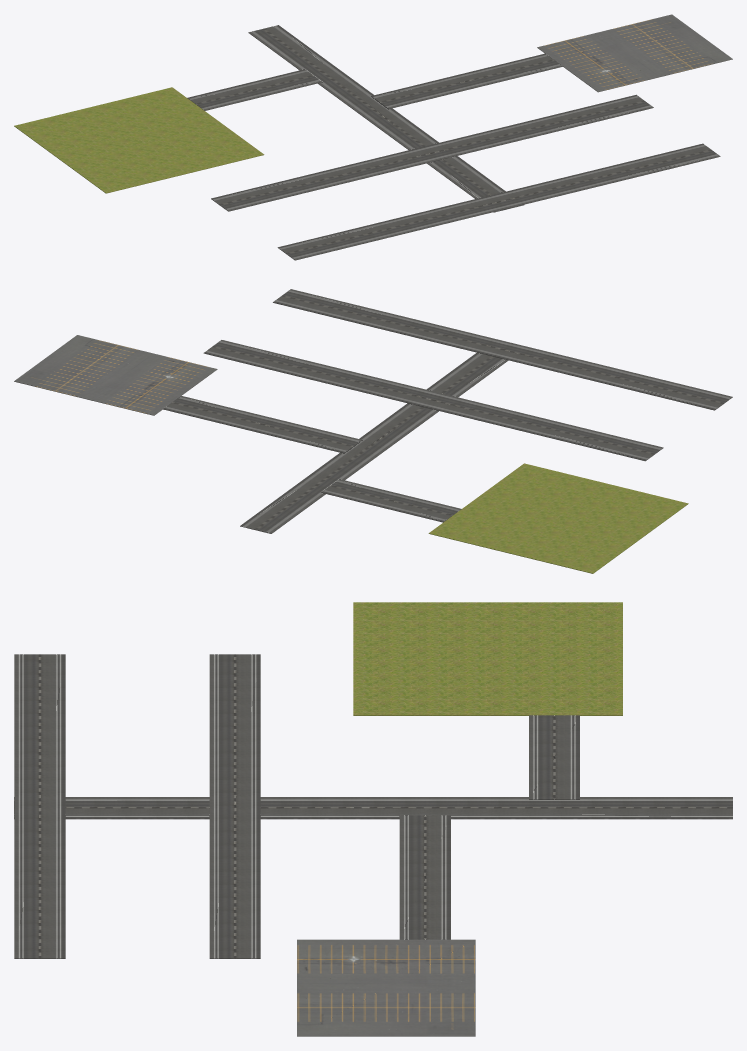
Rendered from calle.obj.
The picture shows the model from 3 angles, top to bottom: view 1: azimuth 30°, elevation 25°; view 2: azimuth 150°, elevation 25°; view 3: azimuth 270°, elevation 25°; orthographic projection. The views are drawn at different scales.
Visible parts, largest first — view 1: Box008, Box007, Box002, Box003, Box001, Box005, Box006; view 2: Box008, Box007, Box002, Box003, Box001, Box005, Box006; view 3: Box008, Box007, Box002, Box003, Box001, Box005, Box006.
Part boxes in pixels (x1=…): Box008: x1=14, y1=87, x2=264, y2=193; Box007: x1=537, y1=14, x2=732, y2=92; Box002: x1=277, y1=143, x2=720, y2=260; Box003: x1=211, y1=94, x2=653, y2=211; Box001: x1=248, y1=25, x2=523, y2=212; Box005: x1=371, y1=53, x2=562, y2=108; Box006: x1=187, y1=69, x2=321, y2=110; Box008: x1=428, y1=463, x2=688, y2=573; Box007: x1=14, y1=335, x2=217, y2=415; Box002: x1=273, y1=289, x2=732, y2=410; Box003: x1=203, y1=340, x2=663, y2=461; Box001: x1=240, y1=352, x2=508, y2=533; Box005: x1=163, y1=395, x2=361, y2=453; Box006: x1=321, y1=479, x2=461, y2=522; Box008: x1=353, y1=602, x2=622, y2=715; Box007: x1=297, y1=939, x2=475, y2=1036; Box002: x1=14, y1=654, x2=65, y2=958; Box003: x1=209, y1=654, x2=260, y2=958; Box001: x1=14, y1=797, x2=732, y2=819; Box005: x1=399, y1=815, x2=450, y2=939; Box006: x1=529, y1=715, x2=579, y2=799.
Bounding box in the file's own units: 4205 × 5.9 × 2944.
Materials: 3 (3 with a texture image).
